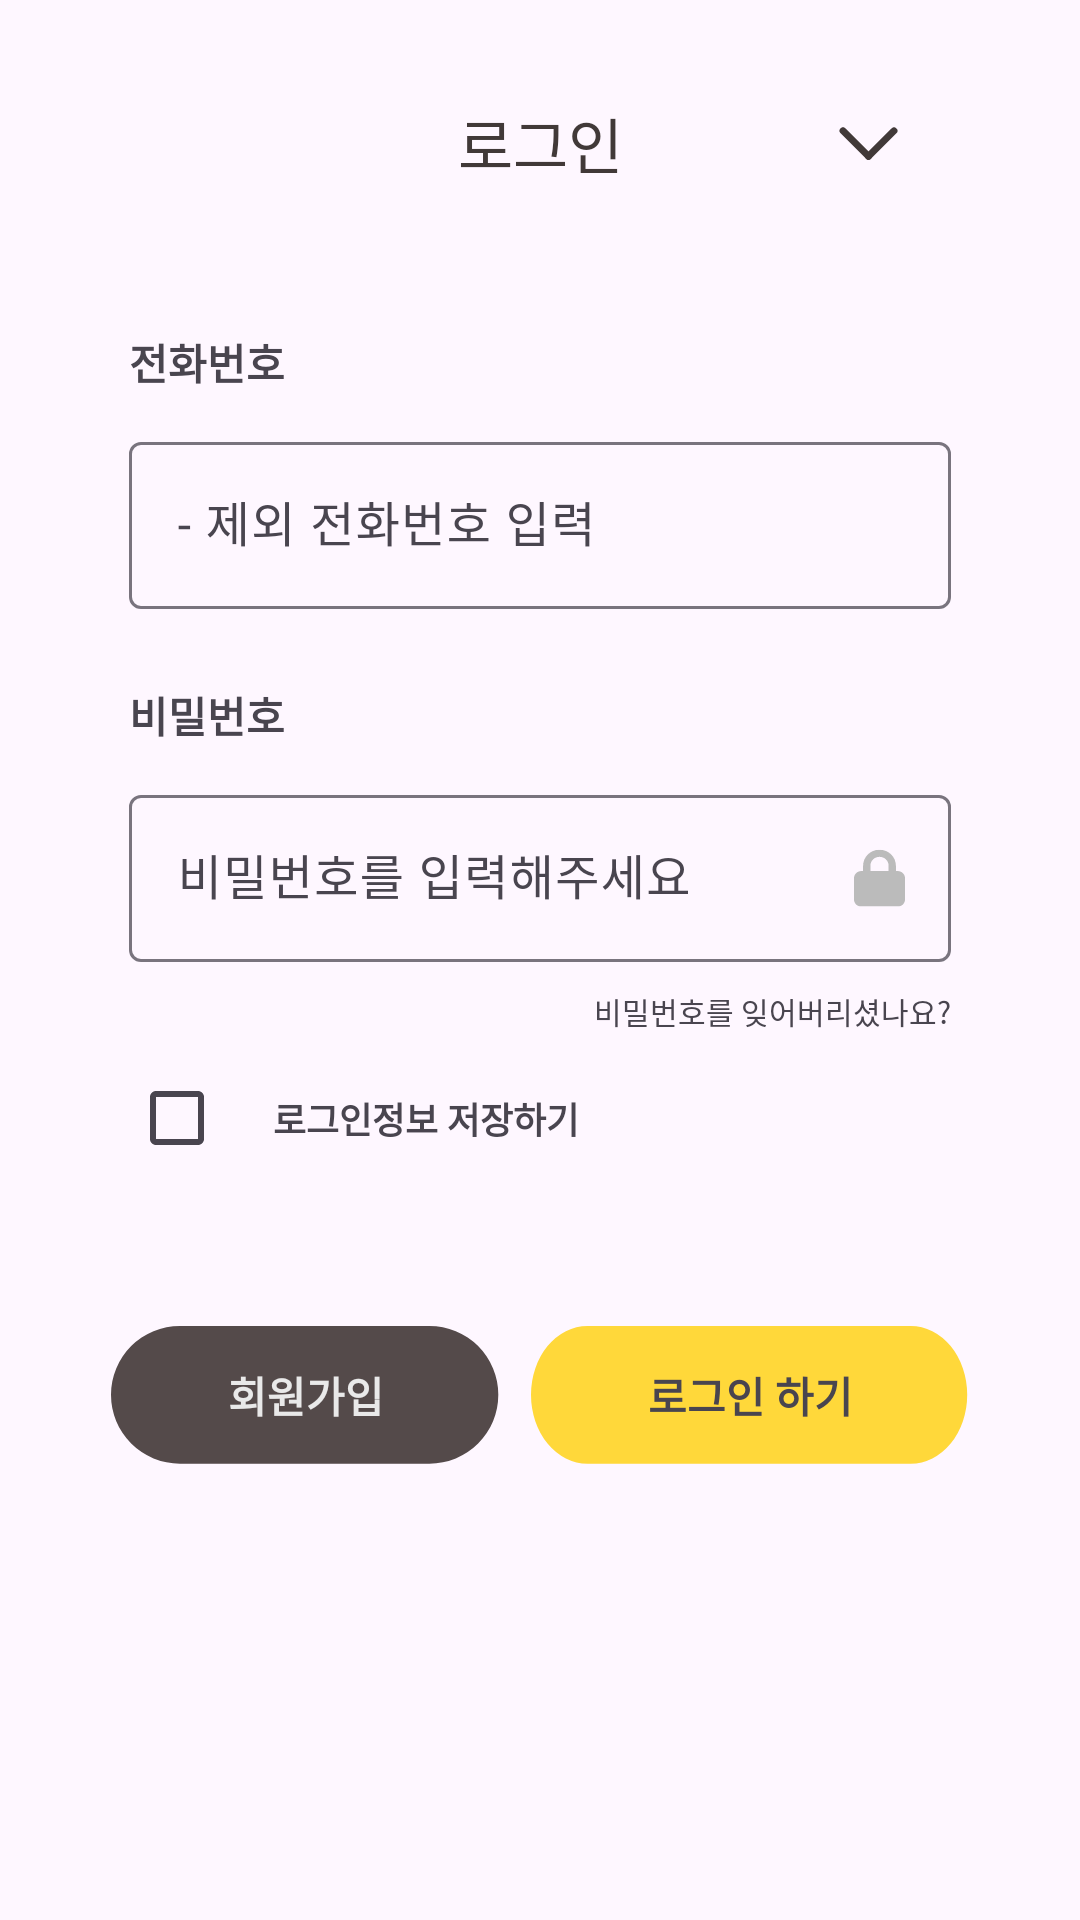

Locate icon controls on the screen. Image size 1080*1920, boxes as {"left": x1, "top": y1, "right": x2, "bottom": y2}.
arrow bottom: {"left": 839, "top": 127, "right": 898, "bottom": 160}
